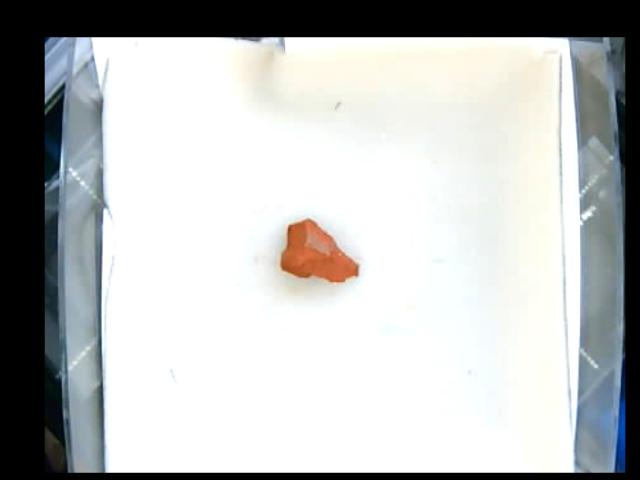Brisk: (278, 218, 361, 282)
